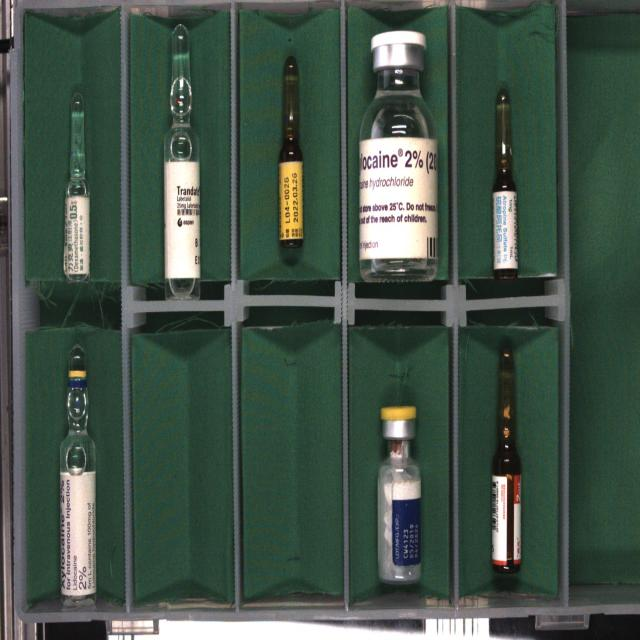Vials: (359, 30, 437, 281), (378, 406, 421, 583)
